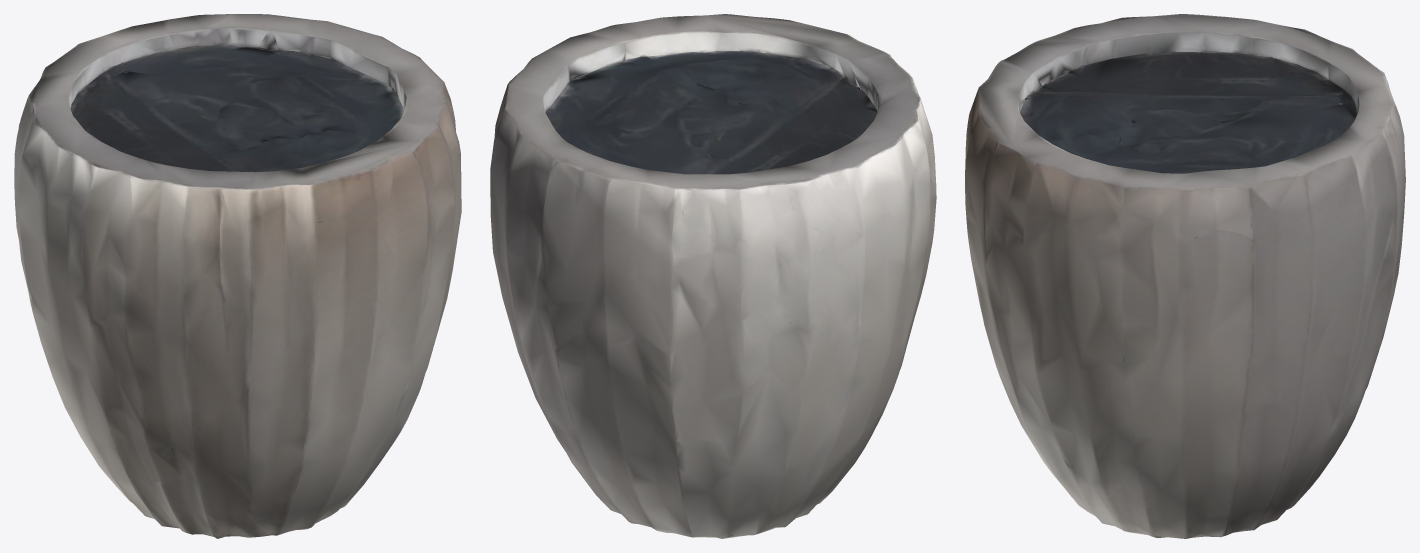
The model's file is fm_planter_fluted.glb.
3 renders of one model, left to right at view 1: azimuth 30°, elevation 25°; view 2: azimuth 150°, elevation 25°; view 3: azimuth 270°, elevation 25°, orthographic.
Parts seen in each view (by area): view 1: world; view 2: world; view 3: world.
Boxes of the visible parts, x1,y1,x2,y2 form: world: (14,14,461,538); world: (490,14,936,538); world: (965,14,1405,538).
Size of the model in its own units: 0.4496 by 0.4366 by 0.4435.
Materials: 1 (1 with a texture image).
